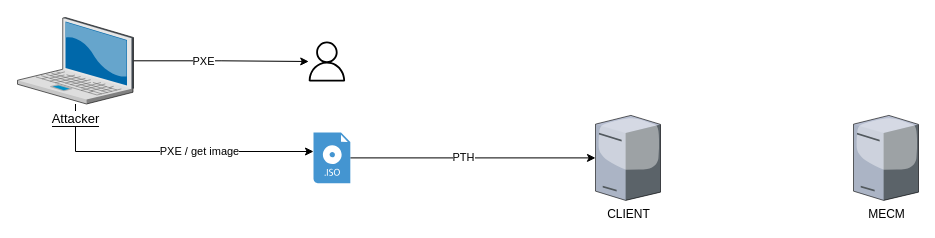
This 935x238 diagram has some shape labels left out. The centre of each missing label's shape, as x and y in pixels:
admin password: the point at 331,157
SCCMLAB\sccm-naa: the point at 326,61
